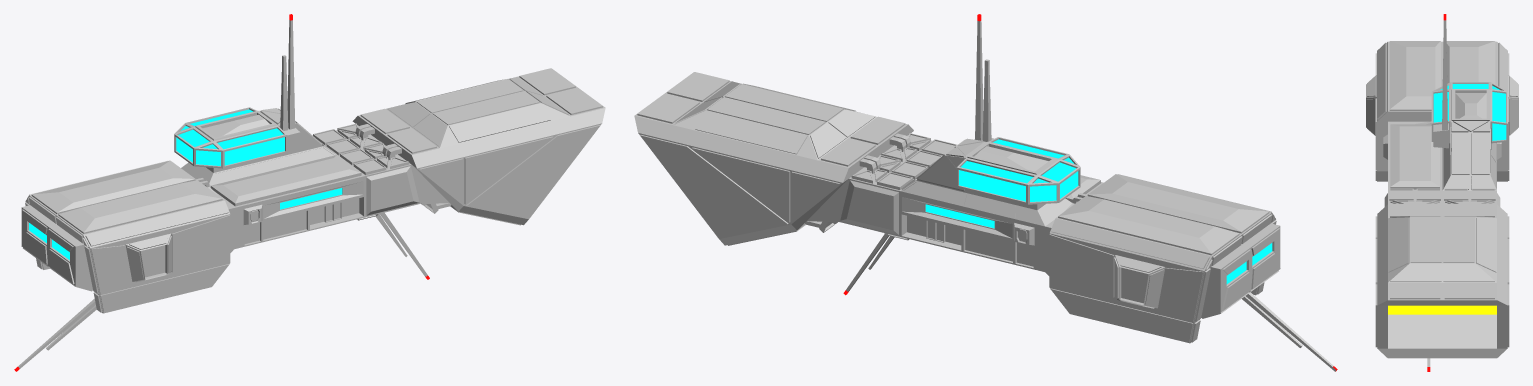
File: malmö.fbx
The picture shows the model from 3 angles, left to right: view 1: azimuth 30°, elevation 25°; view 2: azimuth 150°, elevation 25°; view 3: azimuth 270°, elevation 25°; orthographic projection. The views are drawn at different scales.
Parts seen in each view (by area): view 1: malmö; view 2: malmö; view 3: malmö.
Boxes of the visible parts, x1,y1,x2,y2 form: malmö: (14,14,605,371); malmö: (634,14,1337,371); malmö: (1366,14,1518,371).
Bounding box in the file's own units: 6.28 × 2.97 × 1.4.
